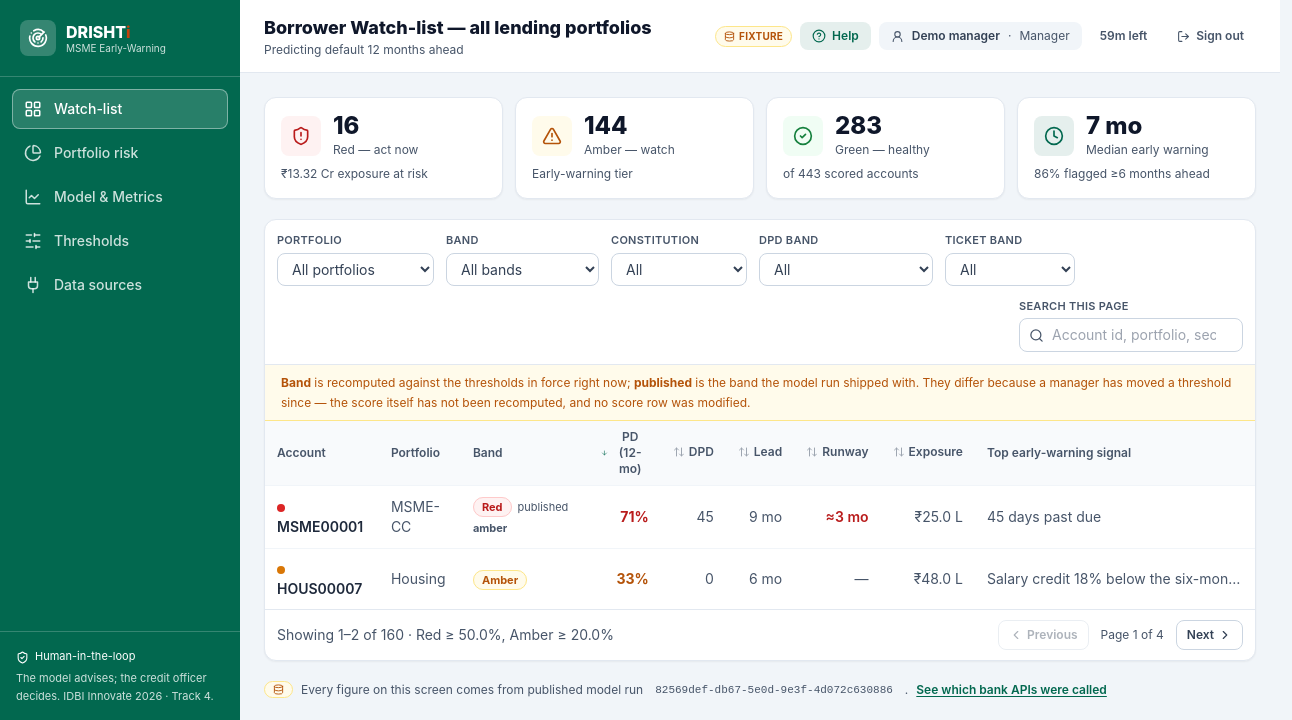
Scenario: Watch-list — counting honestly › says what it is counting once a client-side filter narrows the page
Type "HOUS" into the search field labelled "Search this page" at [1131, 335], box [1019,318,1243,352]
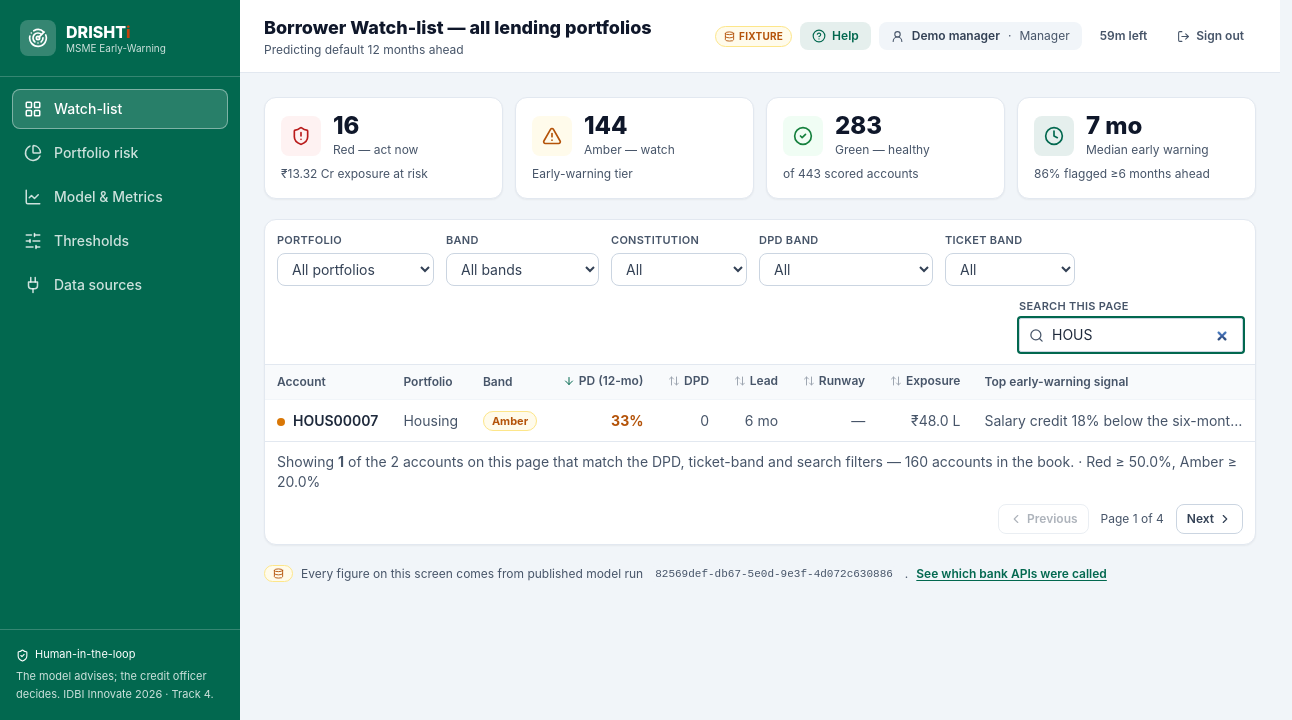
Check: the text "match the" shows "160 accounts in the book", box [277,452,1243,492]
Check: the text "match the" no longer shows "Showing 1–", box [277,452,1243,492]
